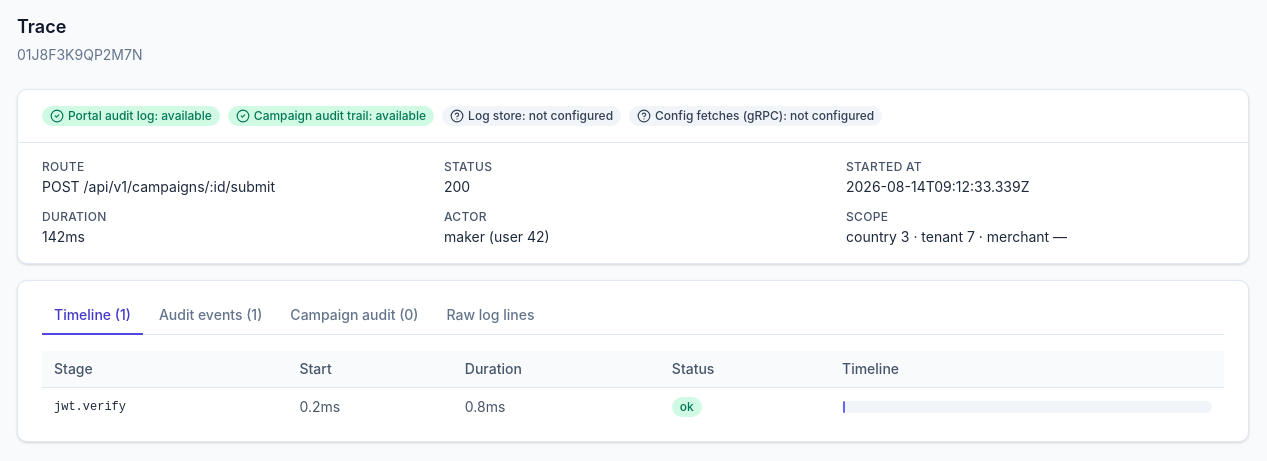
Scenario: the audit-events tab › renders a populated row with the actor and target text (default tab is timeline, so this exercises the click path)
Expected: the heading "Trace" is shown, [17,16,66,37]
Step 1. Click the tab "Audit events (1)" → (211, 316), box [147,297,274,335]
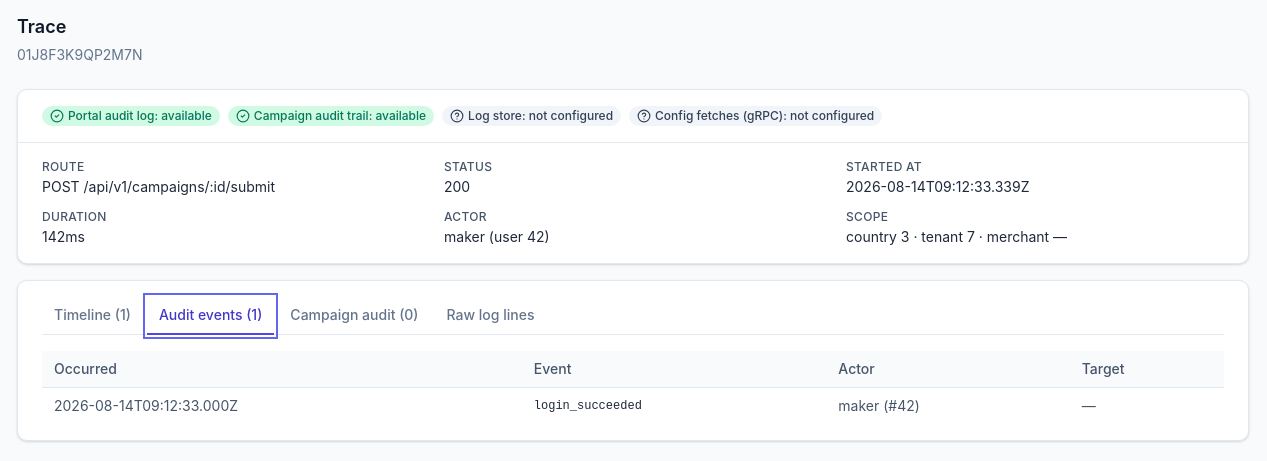
Result: the text "login_succeeded" is shown at [522,388,826,424]
Result: the text "login_succeeded" shows "maker" at [838,397,879,414]
Result: the text "login_succeeded" shows "(#42)" at [883,397,920,414]
